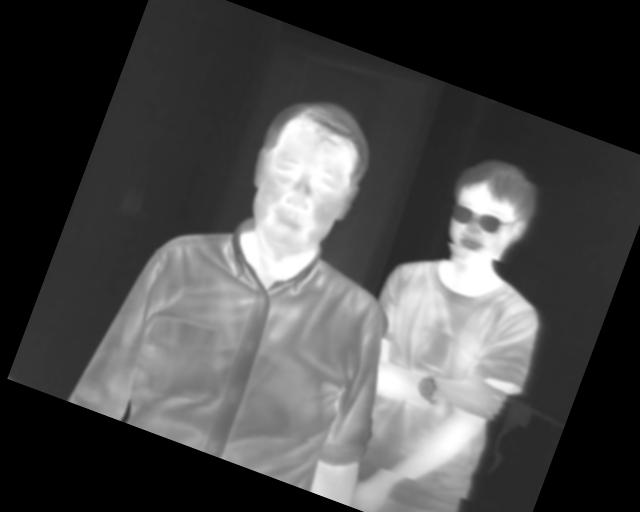face: (227, 83, 385, 273), (430, 148, 547, 283)
